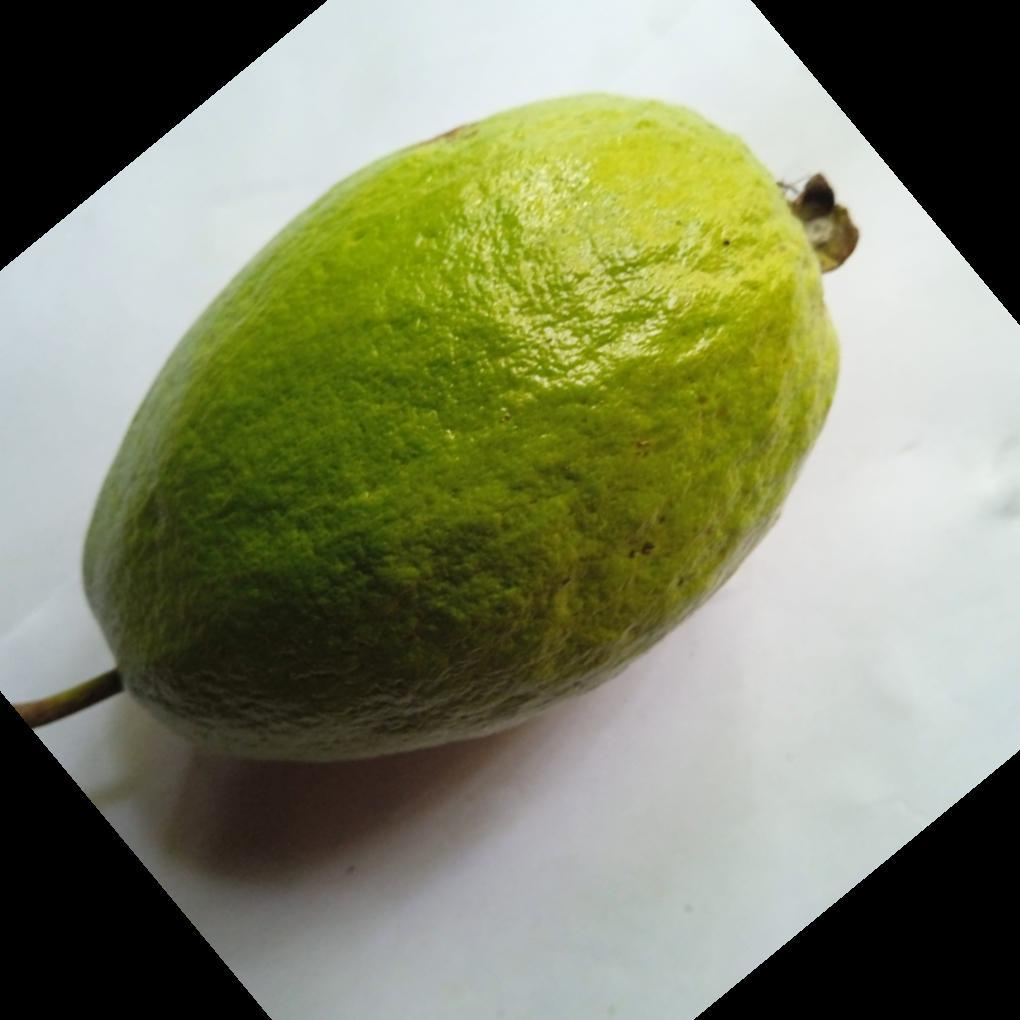FreshGuava: (78, 94, 852, 768)
